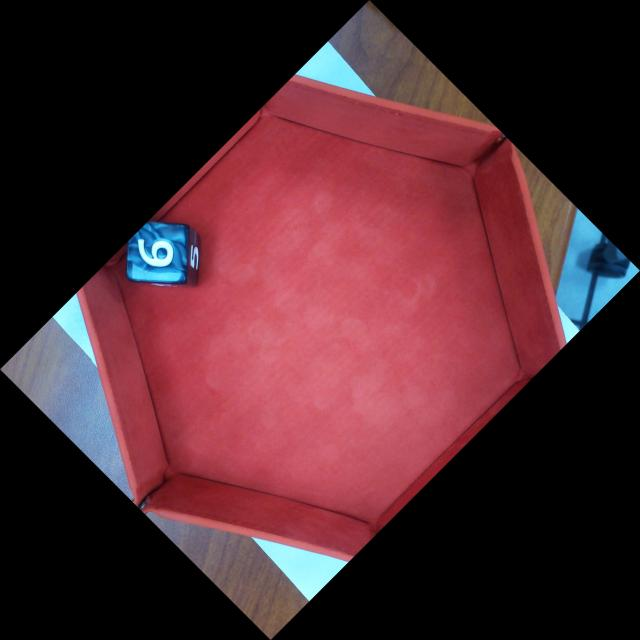dice: (125, 223, 185, 280)
